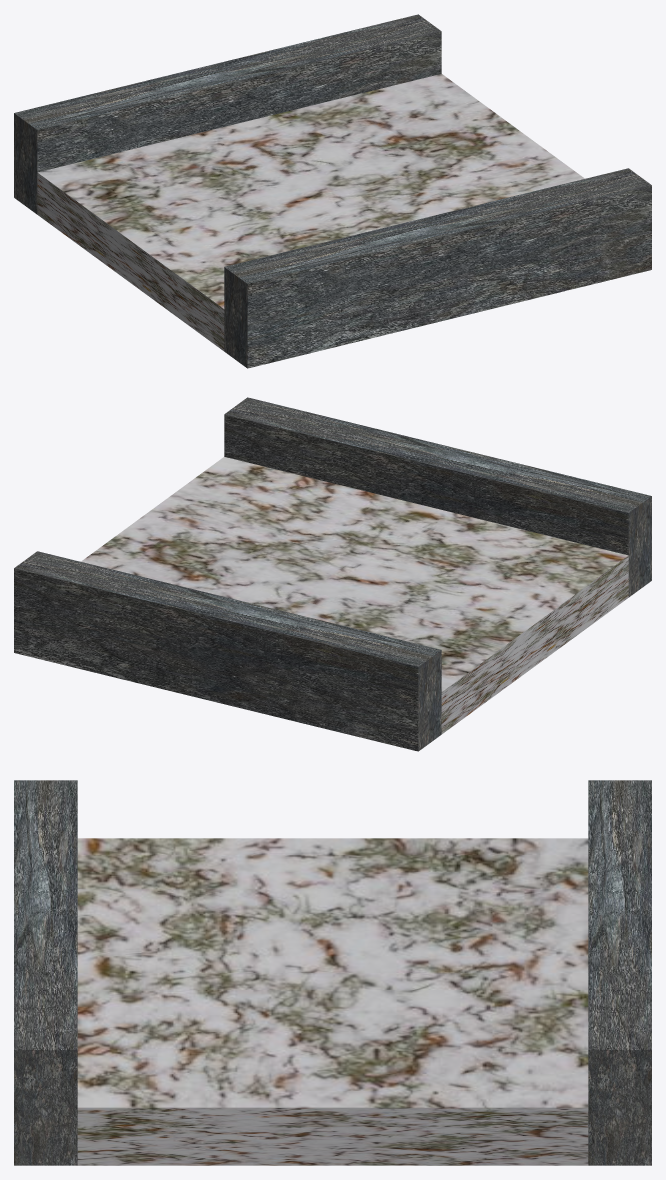
The model's file is Straight.glb.
The picture shows the model from 3 angles, top to bottom: view 1: azimuth 30°, elevation 25°; view 2: azimuth 150°, elevation 25°; view 3: azimuth 270°, elevation 25°; orthographic projection. The views are drawn at different scales.
Visible parts, largest first — view 1: Straight, Left, Right; view 2: Straight, Right, Left; view 3: Straight, Left, Right.
Boxes of the visible parts, x1,y1,x2,y2 form: Straight: (37,74,584,351); Left: (224,168,651,368); Right: (14,14,441,214); Straight: (81,457,628,734); Right: (14,551,441,751); Left: (224,397,651,597); Straight: (77,838,588,1165); Left: (14,780,77,1165); Right: (588,780,651,1165).
Size of the model in its own units: 1 by 0.2 by 1.
2 materials, 2 textured.
